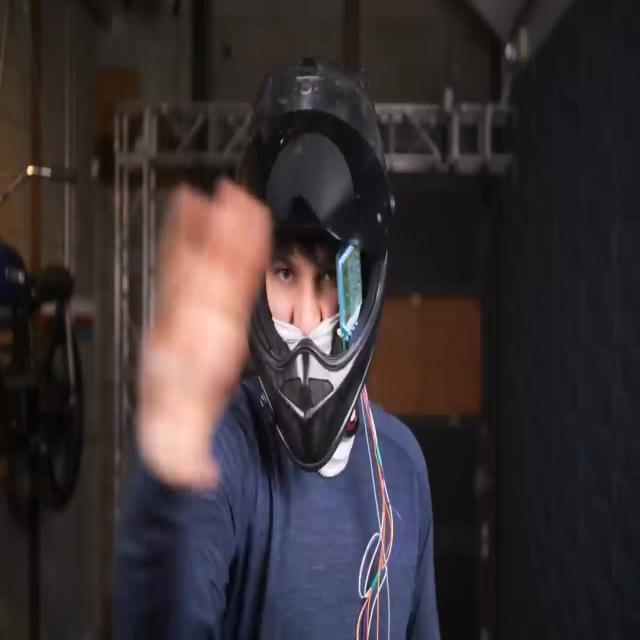Helmet_Wearer: (230, 63, 393, 480)
Person: (137, 54, 439, 640)
